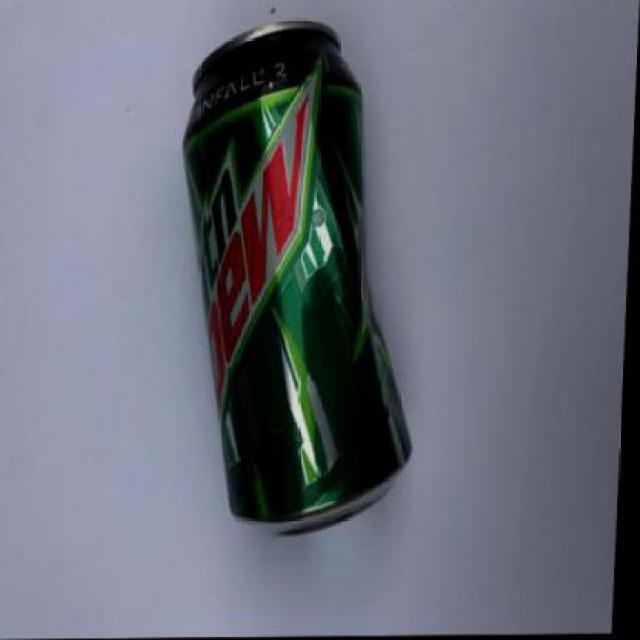Metal: (176, 20, 422, 546)
